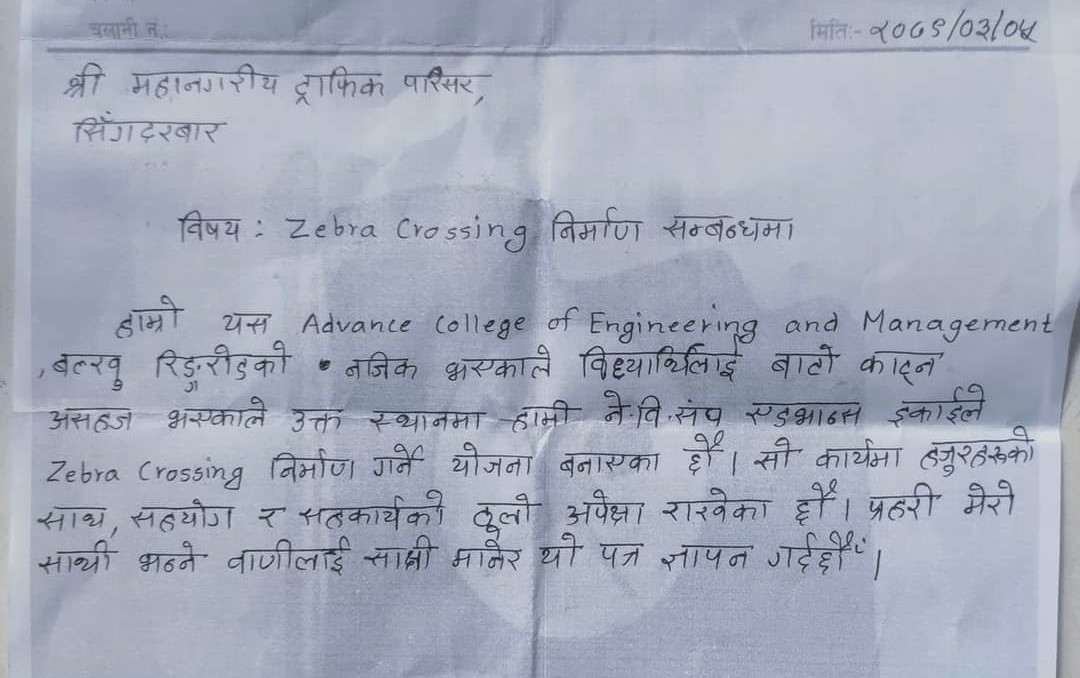text: (154, 335, 292, 396), (915, 420, 1042, 478), (294, 485, 447, 532), (575, 342, 744, 384), (74, 110, 229, 155), (867, 8, 1042, 46), (129, 60, 280, 101), (224, 533, 355, 578), (443, 341, 557, 390), (598, 386, 727, 429), (769, 528, 869, 583), (660, 483, 769, 530), (661, 209, 799, 246), (883, 383, 989, 428), (128, 496, 241, 538), (547, 204, 645, 251), (742, 396, 865, 431), (167, 393, 273, 433), (289, 64, 389, 106), (857, 344, 948, 387), (864, 480, 946, 526), (447, 441, 536, 482), (564, 488, 647, 530), (659, 536, 755, 572), (814, 438, 905, 475), (47, 350, 128, 391), (267, 445, 356, 482), (113, 293, 183, 340), (36, 540, 117, 580), (362, 535, 436, 578), (553, 450, 662, 479), (468, 491, 537, 536), (43, 402, 137, 435), (445, 537, 524, 576), (365, 408, 486, 433), (767, 344, 842, 383), (343, 349, 420, 386), (35, 499, 109, 537), (134, 538, 202, 579), (178, 207, 244, 246), (403, 64, 476, 99), (787, 476, 838, 526), (367, 441, 426, 481), (957, 481, 1019, 519), (505, 400, 574, 433), (59, 60, 113, 101), (680, 429, 727, 475), (282, 406, 347, 439), (534, 528, 583, 570), (215, 306, 275, 338), (754, 431, 797, 470), (596, 540, 647, 569), (254, 506, 282, 531)
